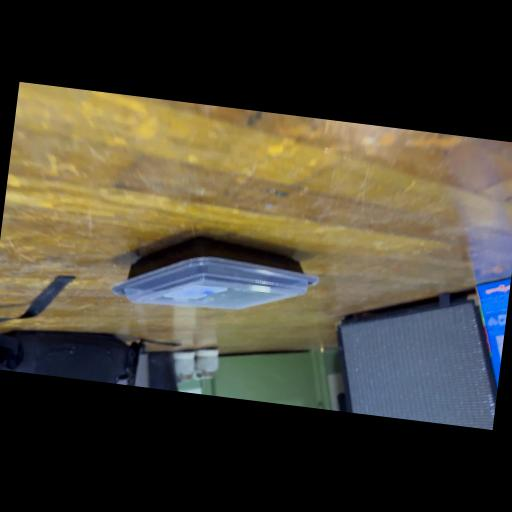rigid_plastic_container: (108, 224, 324, 328)
